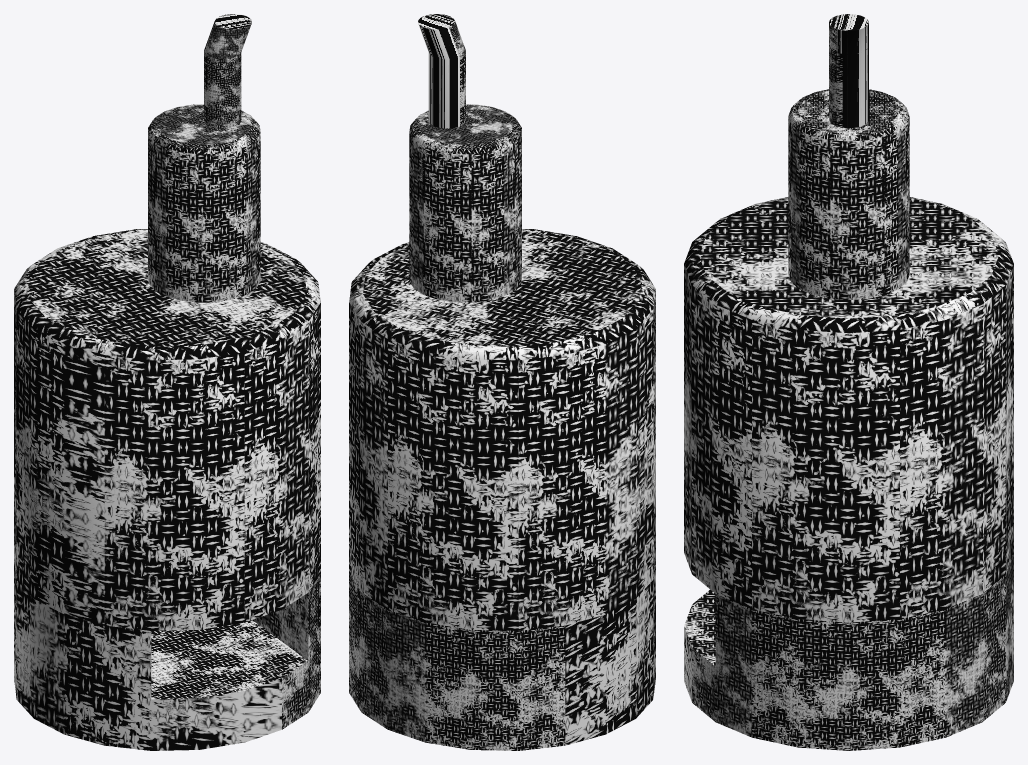
The model's file is Horno.fbx.
3 views of the same model, side by side, from view 1: azimuth 30°, elevation 25°; view 2: azimuth 150°, elevation 25°; view 3: azimuth 270°, elevation 25° (orthographic). The views are drawn at different scales.
Visible parts, largest first — view 1: Cylinder053; view 2: Cylinder053; view 3: Cylinder053.
Part boxes in pixels (x1,y1,x2,y2): Cylinder053: [14, 14, 320, 750]; Cylinder053: [349, 14, 655, 750]; Cylinder053: [684, 14, 1013, 750].
Size of the model in its own units: 436 by 1011 by 436.
